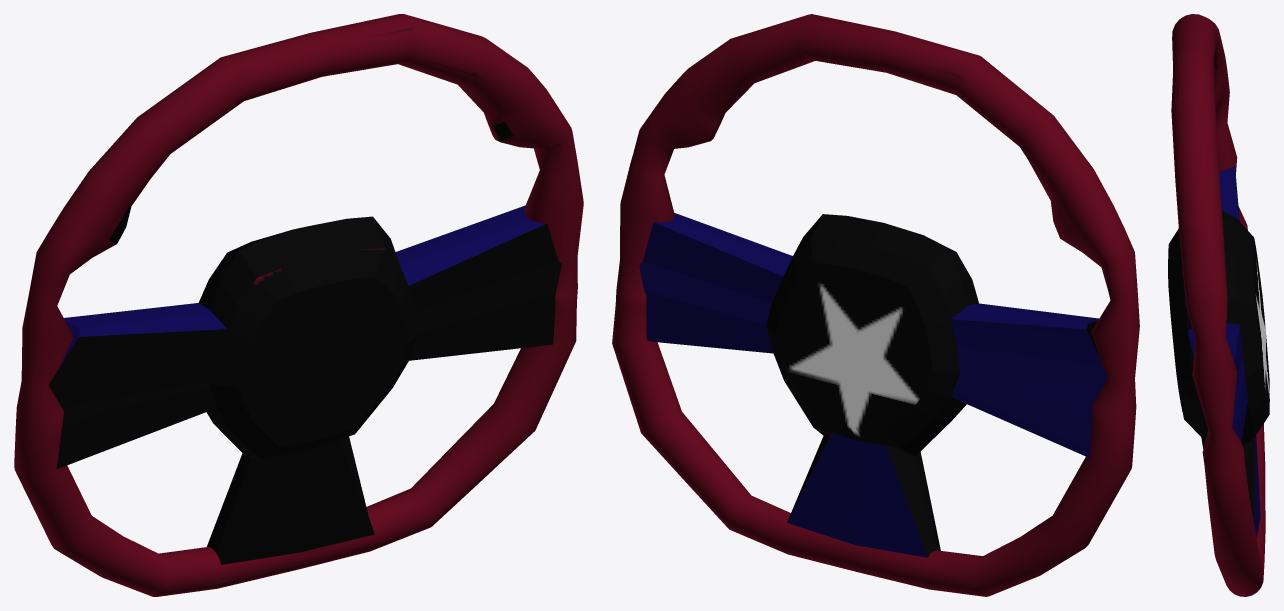
Rendered from car_steeringwheel.obj.
3 renders of one model, left to right at view 1: azimuth 30°, elevation 25°; view 2: azimuth 150°, elevation 25°; view 3: azimuth 270°, elevation 25°, orthographic. The views are drawn at different scales.
Parts seen in each view (by area): view 1: textureEditorIsolateSelectSet Steering_Wheel1; view 2: textureEditorIsolateSelectSet Steering_Wheel1; view 3: textureEditorIsolateSelectSet Steering_Wheel1.
Part boxes in pixels (x1,y1,x2,y2): textureEditorIsolateSelectSet Steering_Wheel1: (14,14,583,596); textureEditorIsolateSelectSet Steering_Wheel1: (612,14,1139,596); textureEditorIsolateSelectSet Steering_Wheel1: (1168,14,1269,596).
Bounding box in the file's own units: 0.7785 × 0.746 × 0.1387.
Materials: 1 (1 with a texture image).
